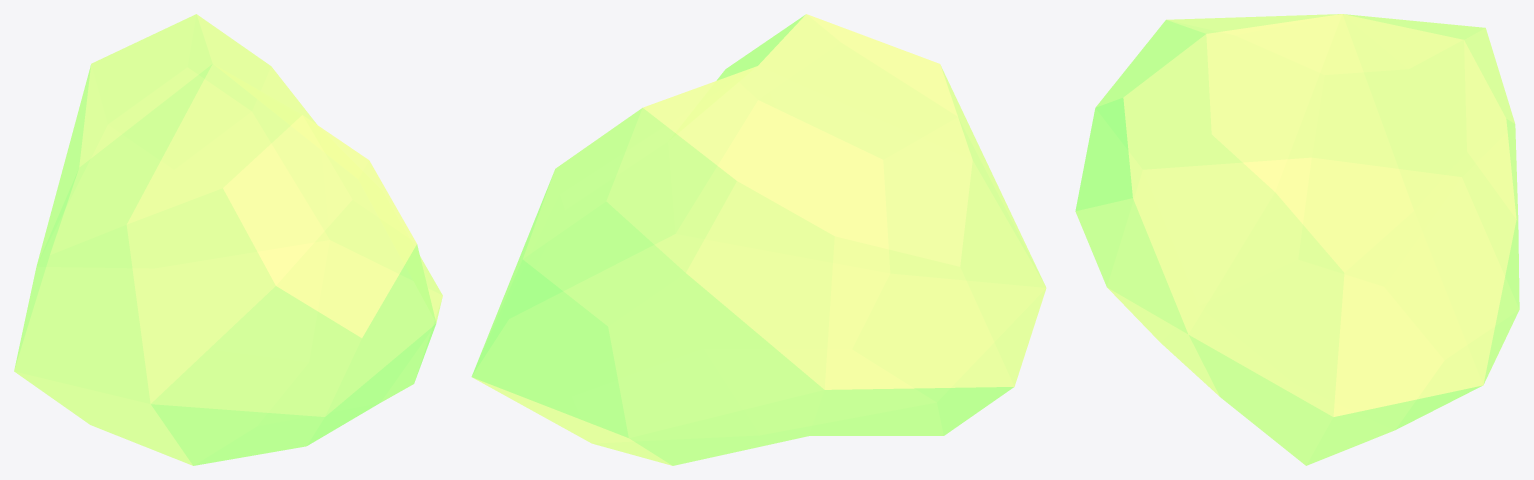
File: enemy5.fbx
The picture shows the model from 3 angles, left to right: view 1: azimuth 30°, elevation 25°; view 2: azimuth 150°, elevation 25°; view 3: azimuth 270°, elevation 25°; orthographic projection. The views are drawn at different scales.
Visible parts, largest first — view 1: Enemy-5; view 2: Enemy-5; view 3: Enemy-5.
Boxes of the visible parts, box(x1,y1,x2,y2) form: Enemy-5: box(14, 14, 442, 465); Enemy-5: box(471, 14, 1046, 465); Enemy-5: box(1075, 14, 1519, 465).
Bounding box in the file's own units: 153 × 117 × 131.
